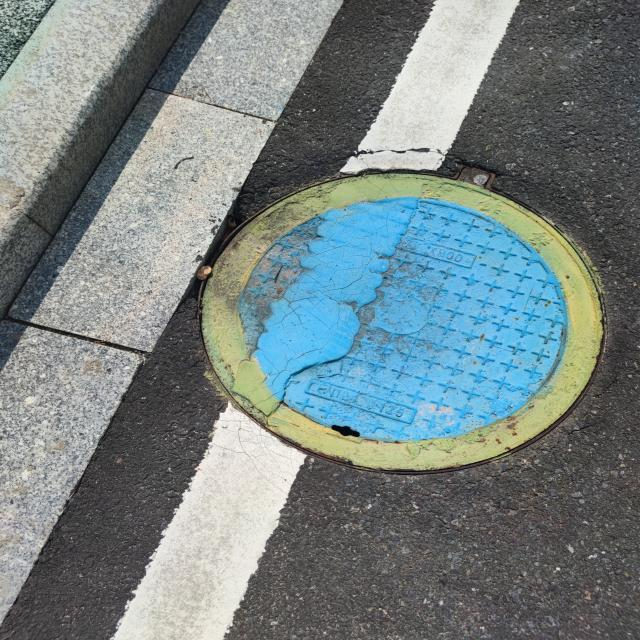Good: (190, 163, 612, 479)
